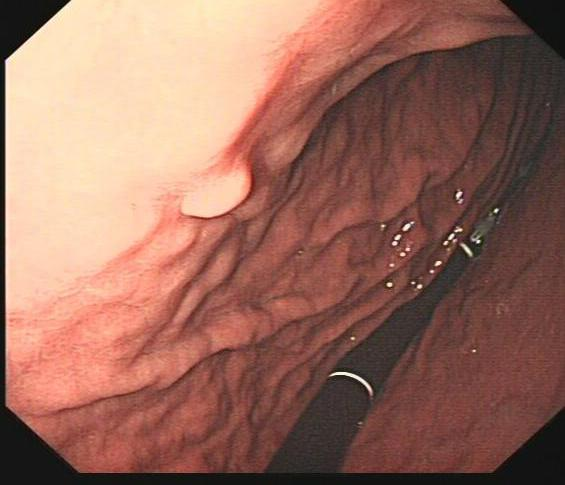Polyp: (174, 157, 262, 219)
